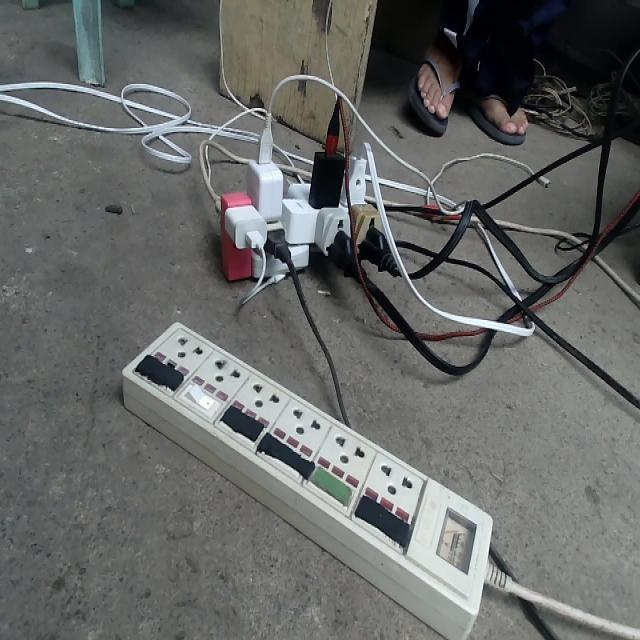-: (206, 113, 402, 280)
